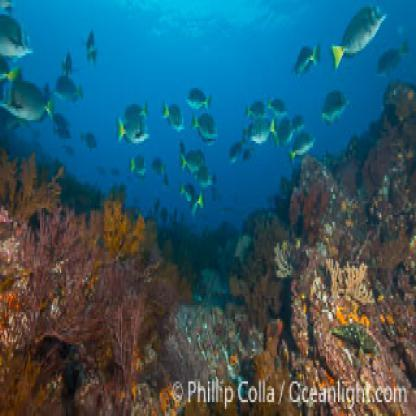Bio: (327, 0, 385, 63), (4, 76, 54, 125), (294, 40, 326, 86), (160, 92, 186, 136)
